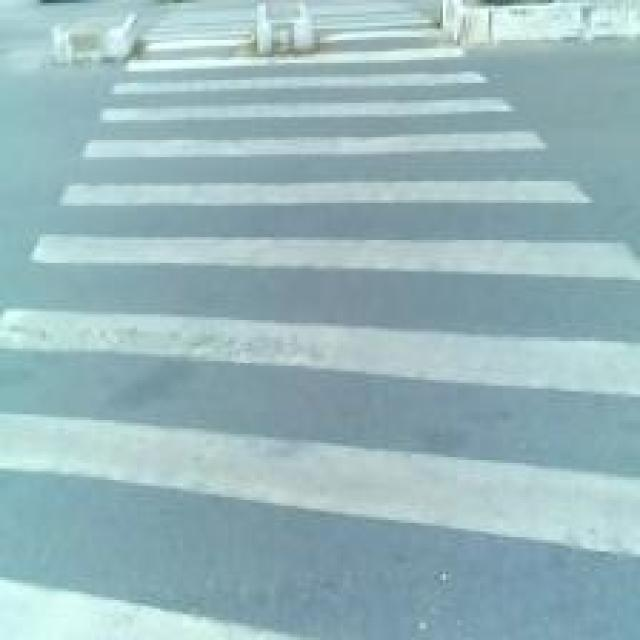walk-crossing: (37, 45, 627, 640)
